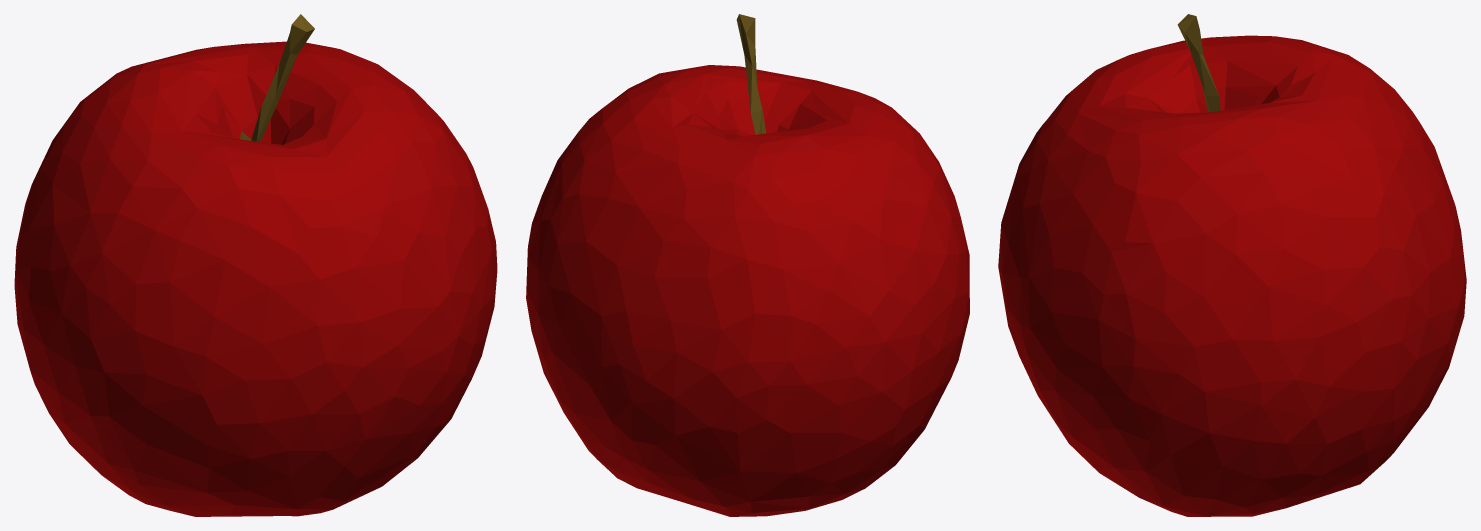
The model's file is Apple.obj.
3 views of the same model, side by side, from view 1: azimuth 30°, elevation 25°; view 2: azimuth 150°, elevation 25°; view 3: azimuth 270°, elevation 25° (orthographic). The views are drawn at different scales.
Visible parts, largest first — view 1: Apple.1; view 2: Apple.1; view 3: Apple.1.
Part boxes in pixels (<box>): Apple.1: <box>14,14,497,516</box>; Apple.1: <box>526,14,969,516</box>; Apple.1: <box>998,14,1466,516</box>.
Size of the model in its own units: 155 by 167 by 151.
